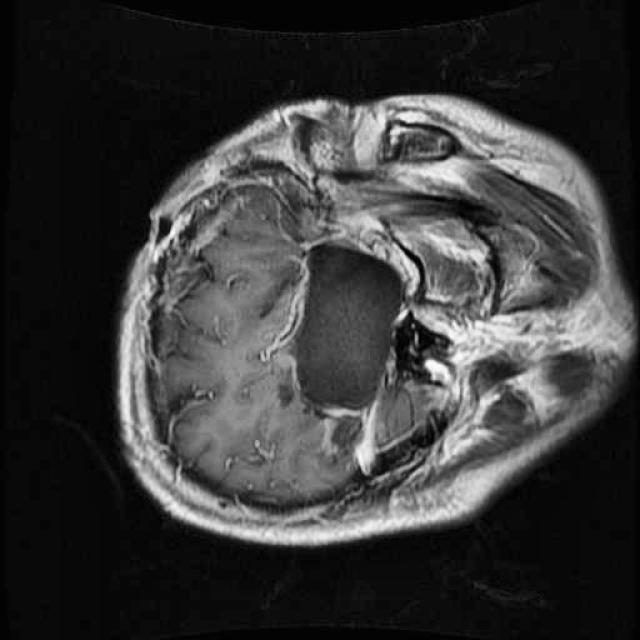Non-Tumor: (268, 223, 430, 469)
